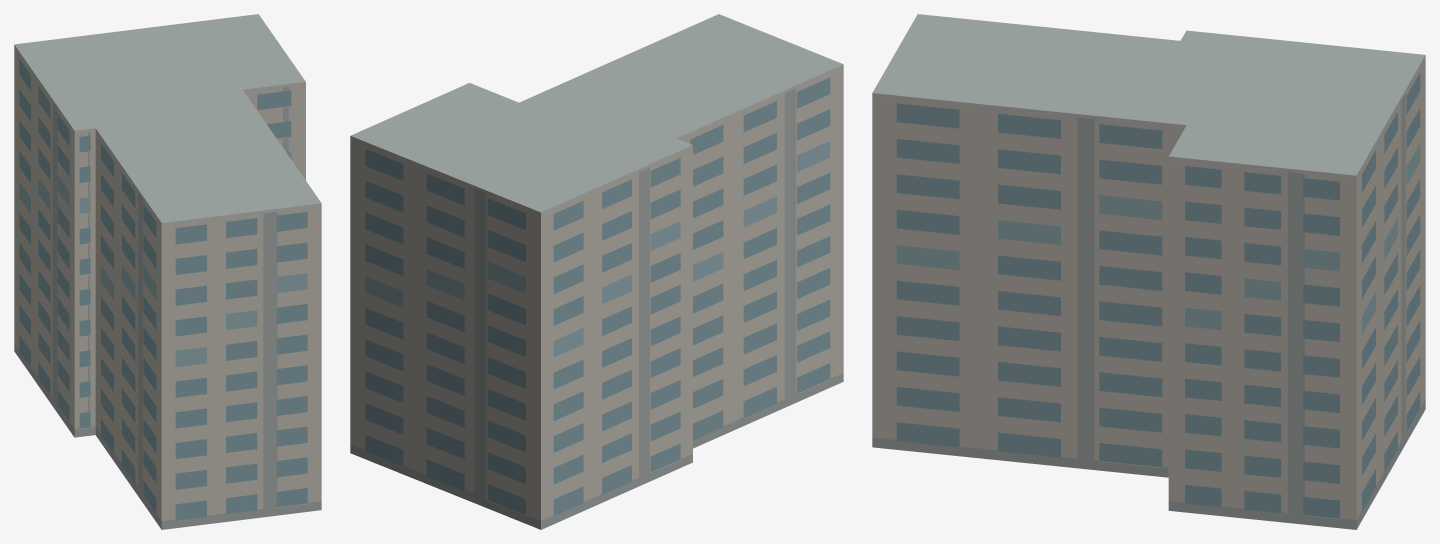
Rendered from residential-586ed57d-fa12-478b-aaa4-2c03041464b0.glb.
The picture shows the model from 3 angles, left to right: view 1: azimuth 30°, elevation 25°; view 2: azimuth 150°, elevation 25°; view 3: azimuth 270°, elevation 25°; orthographic projection. The views are drawn at different scales.
Visible parts, largest first — view 1: residential-586ed57d-fa12-478b-aaa4-2c03041464b0.tmp; view 2: residential-586ed57d-fa12-478b-aaa4-2c03041464b0.tmp; view 3: residential-586ed57d-fa12-478b-aaa4-2c03041464b0.tmp.
Boxes of the visible parts, x1,y1,x2,y2 form: residential-586ed57d-fa12-478b-aaa4-2c03041464b0.tmp: (14,14,321,529); residential-586ed57d-fa12-478b-aaa4-2c03041464b0.tmp: (350,14,843,529); residential-586ed57d-fa12-478b-aaa4-2c03041464b0.tmp: (872,14,1425,529).
Size of the model in its own units: 25.45 by 26 by 36.81.
